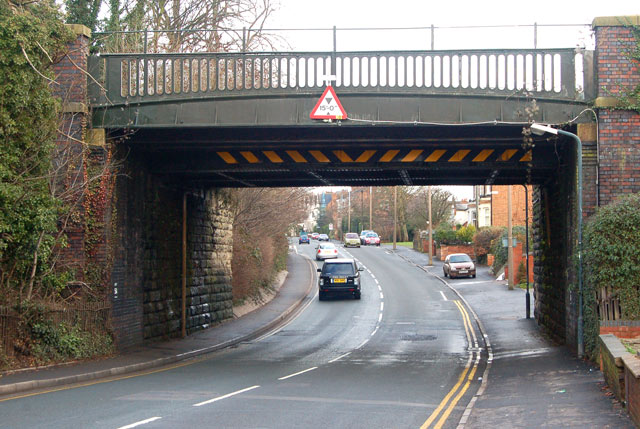bridge: (88, 53, 599, 185)
